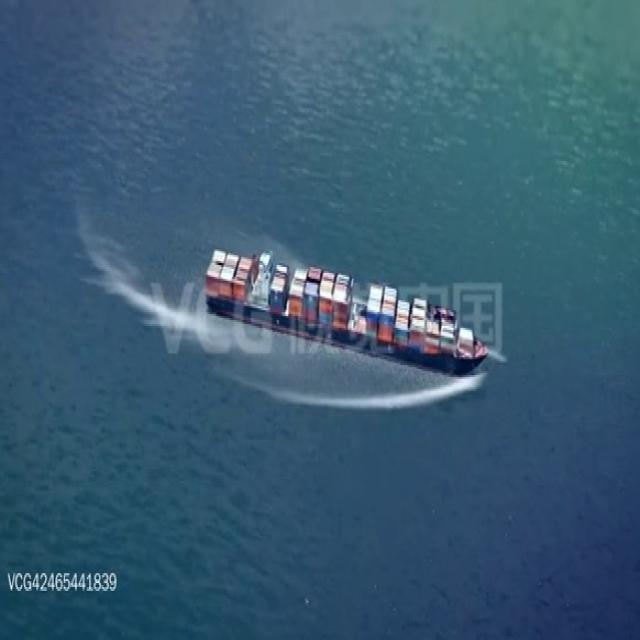cargoship: (204, 241, 487, 378)
